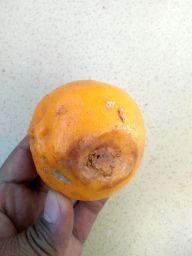Unripe: (30, 78, 146, 203)
